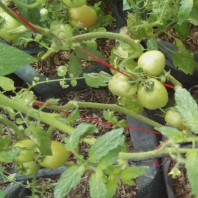tomato: (34, 138, 76, 172), (138, 77, 171, 111), (135, 47, 168, 76), (8, 138, 38, 167), (109, 72, 138, 100), (1, 13, 27, 41), (67, 7, 100, 27), (164, 108, 184, 127), (17, 163, 42, 176)
